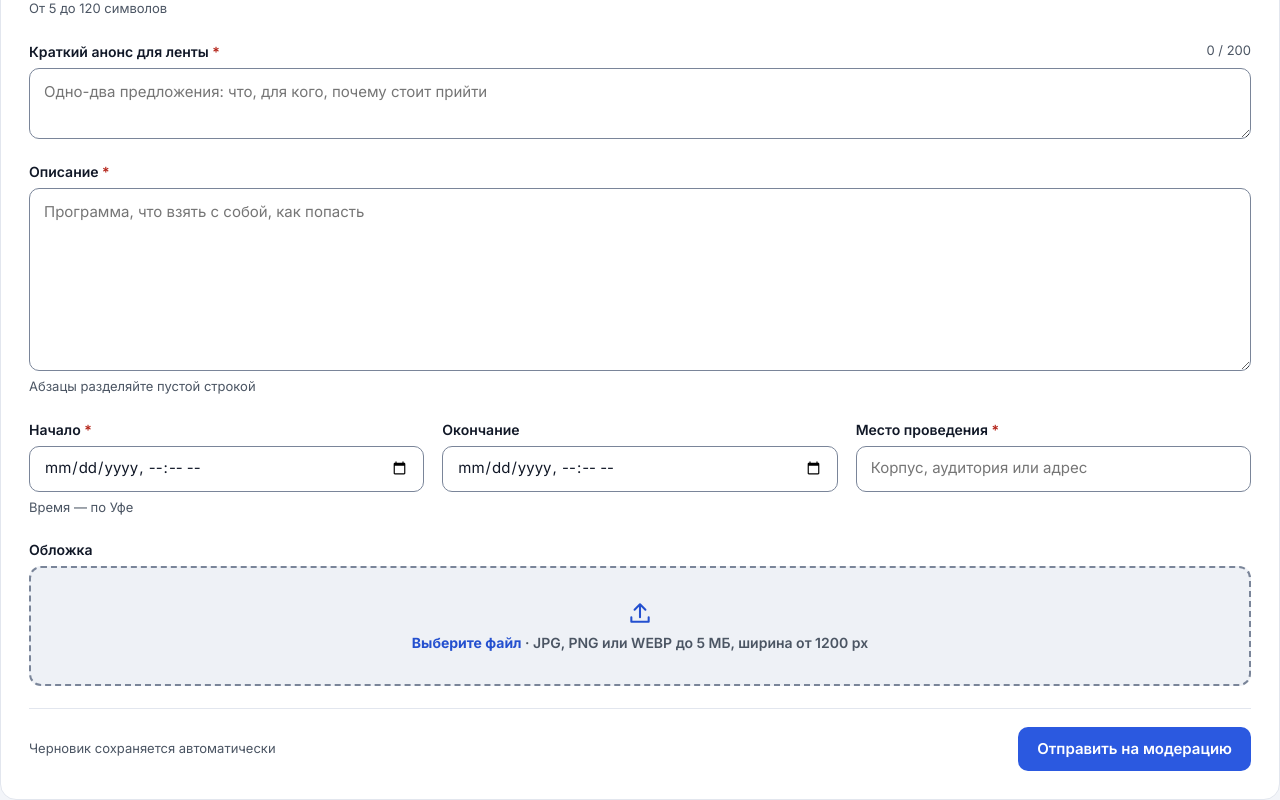
Test case: EventForm › shows server field errors next to the fields and focuses the first one
(page scrolled)
Click the button "Отправить на модерацию".
click(1135, 749)  # box x1=1018 y1=727 x2=1251 y2=771
(page scrolled)
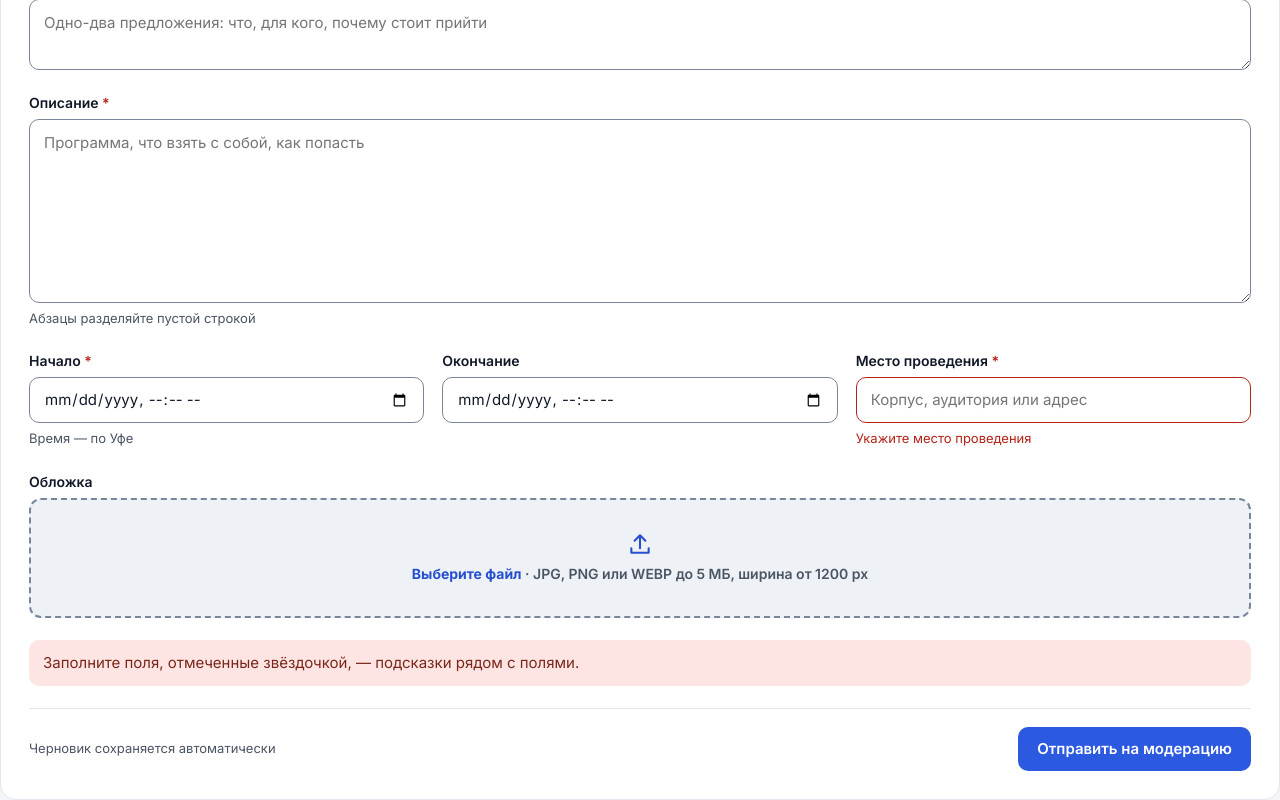
Expected: the message shows "Заполните поля, отмеченные звёздочкой", x1=43 y1=652 x2=579 y2=672
